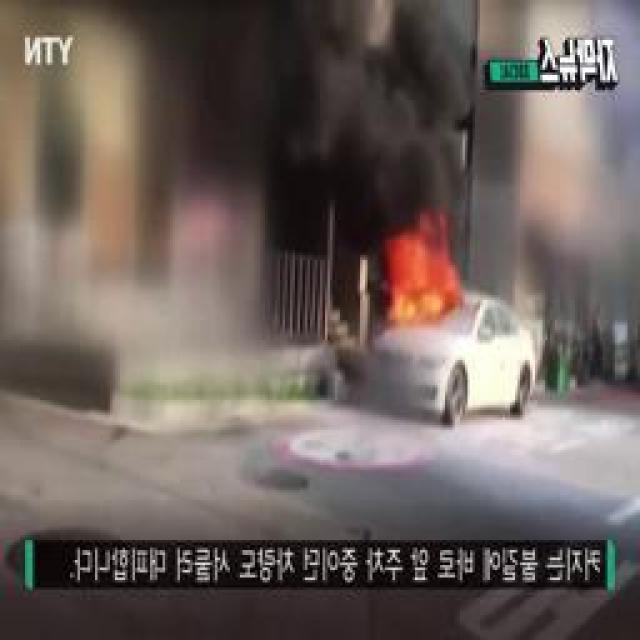Fire: (388, 224, 456, 326)
